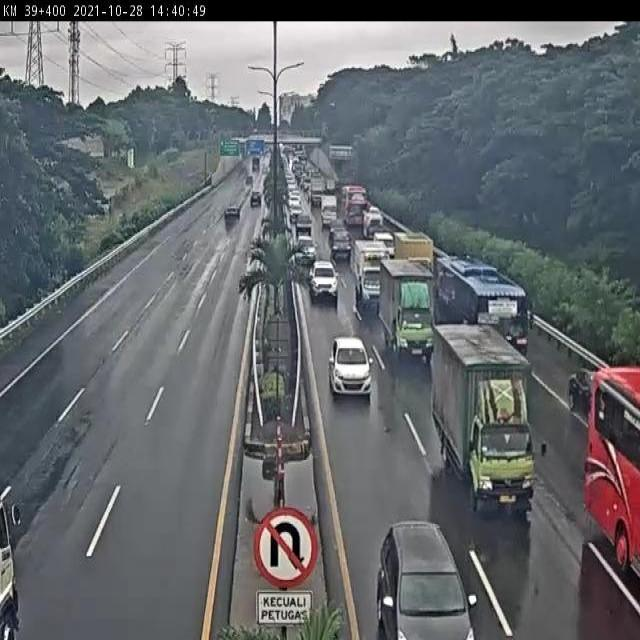bus-l-: (433, 255, 529, 369)
car: (375, 522, 476, 640), (329, 335, 373, 397), (567, 363, 603, 413), (309, 259, 339, 297)
truck-m-: (432, 323, 536, 509), (378, 256, 436, 361), (352, 237, 389, 304)
